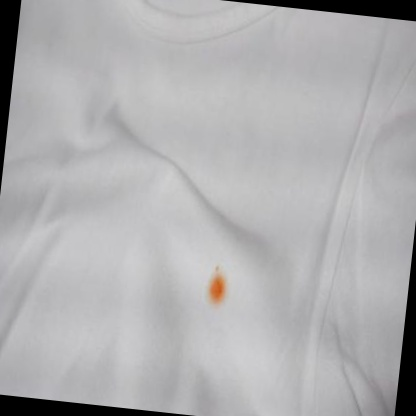kimchi: (200, 260, 231, 309)
